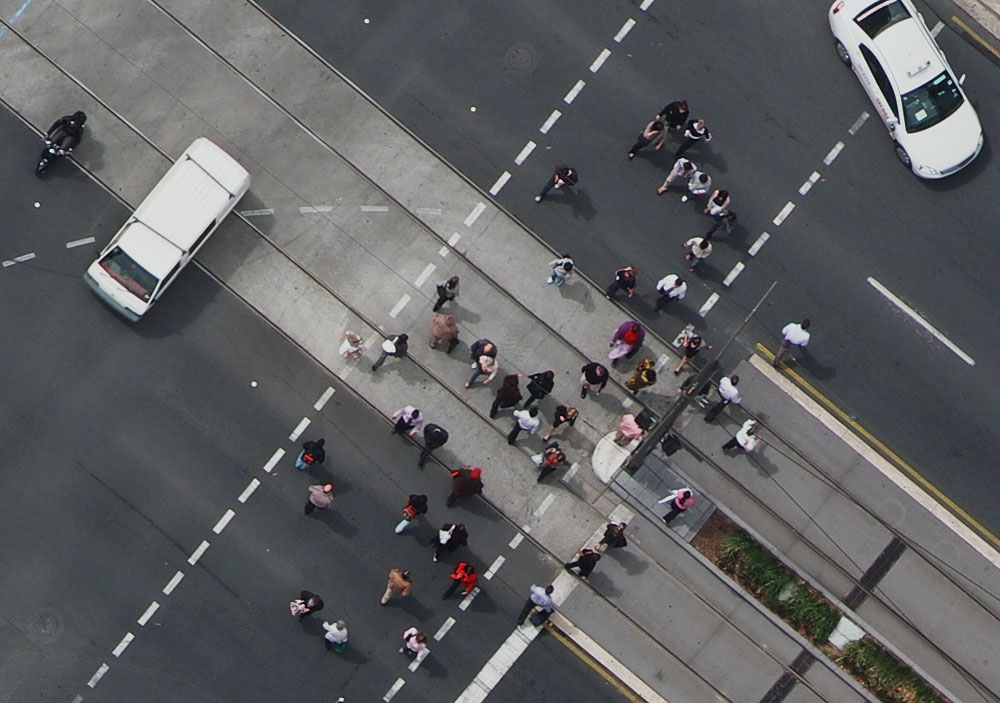car: (87, 44, 305, 379), (823, 3, 995, 193)
person: (552, 271, 848, 628), (236, 402, 442, 675), (364, 397, 581, 632), (569, 55, 736, 340), (508, 130, 595, 229), (283, 565, 362, 666), (501, 393, 574, 487), (430, 230, 472, 309), (374, 539, 412, 620), (286, 428, 331, 489), (372, 305, 406, 385), (34, 104, 91, 151), (481, 319, 504, 401), (400, 399, 417, 443)
